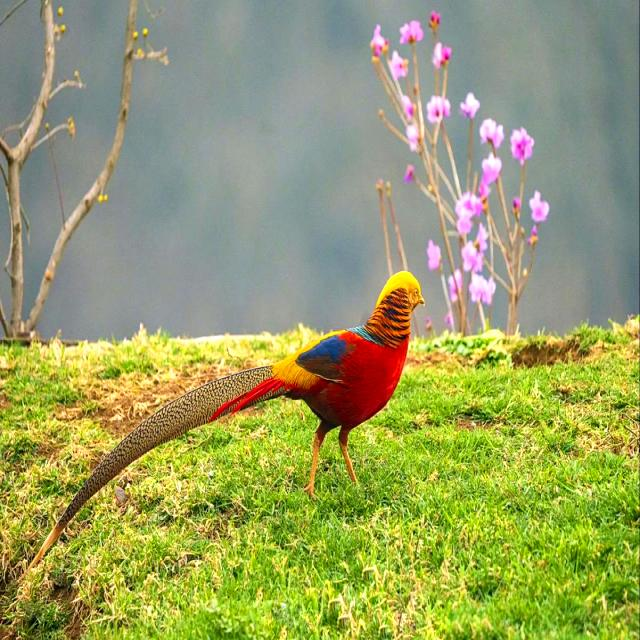Chrysolophus pictus feather: (31, 366, 284, 569)
